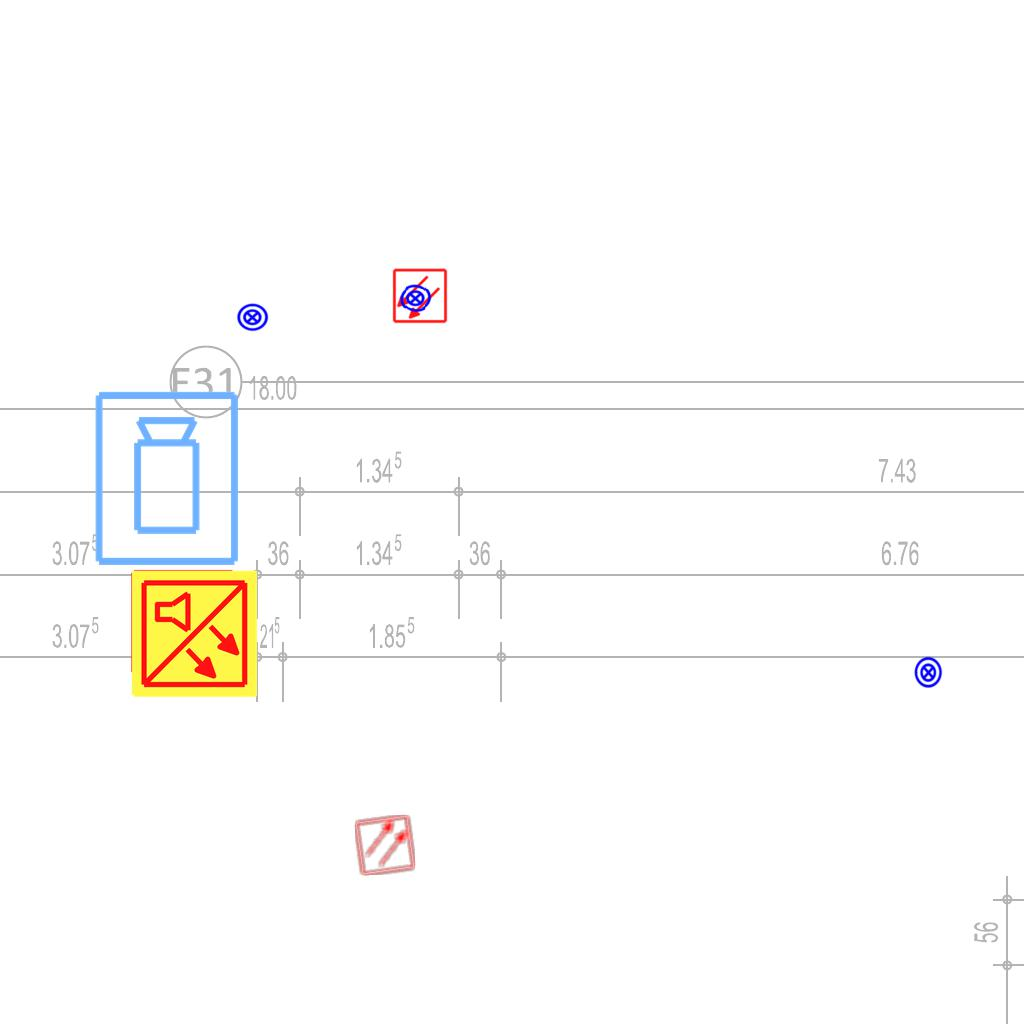KFO_Kamera_mit_Festobjektiv: (91, 388, 245, 570)
OKW_Multisensormelder_(Kombination_optischer_Rauch-Kahlenmonoxid_Waerme-Melder): (128, 568, 260, 700)
RMO_Rauchmelder_optischer: (353, 813, 417, 877), (392, 268, 448, 324)
Taster_beleuchtet: (398, 281, 433, 316), (236, 301, 269, 334), (912, 656, 945, 689)
